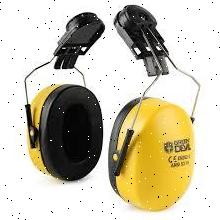Ear_protector: (107, 79, 200, 210), (23, 68, 103, 184)
